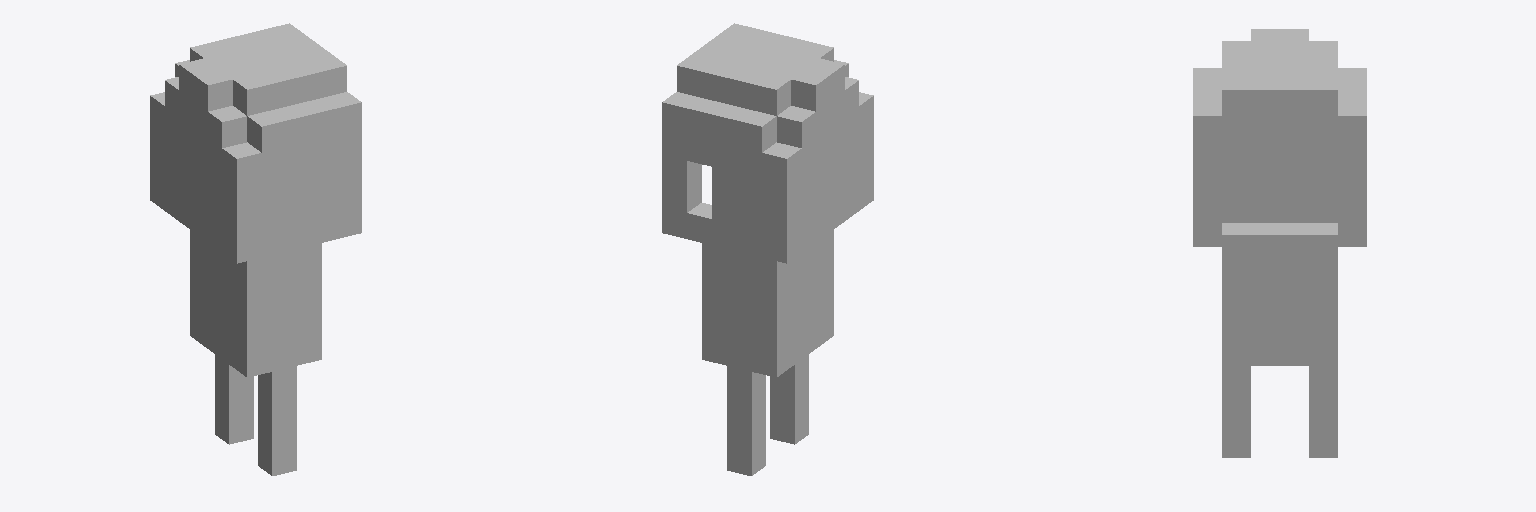
Rendered from stranger.obj.
3 views of the same model, side by side, from view 1: azimuth 30°, elevation 25°; view 2: azimuth 150°, elevation 25°; view 3: azimuth 270°, elevation 25° (orthographic).
Bounding box in the file's own units: 5 × 15 × 6.